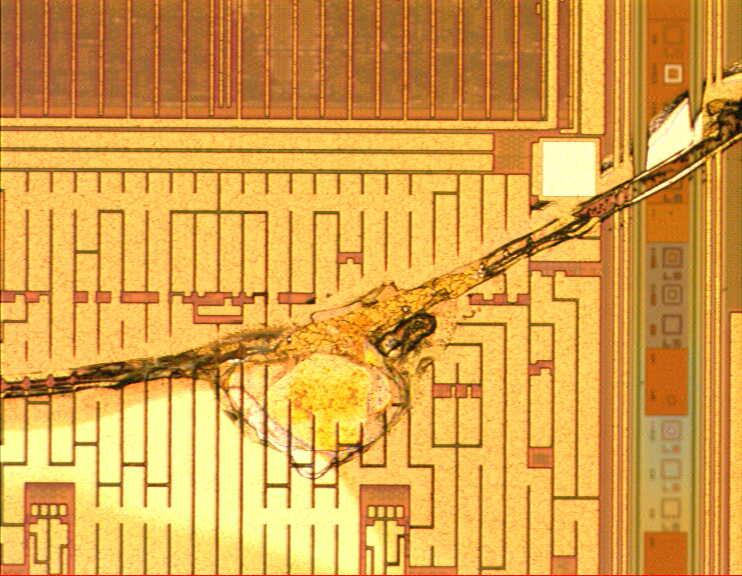BLOCK ETCH: (1, 62, 742, 482)
